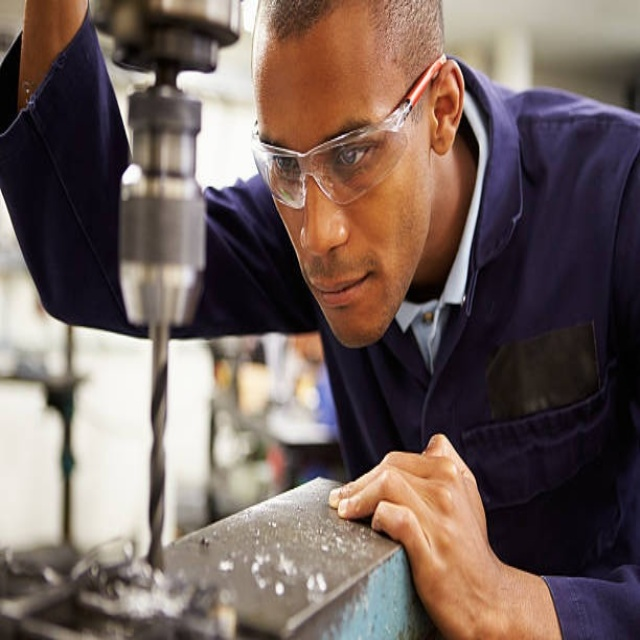Gafas: (251, 56, 443, 209)
Sin_guantes: (331, 432, 512, 640)
Sin_mascara: (300, 256, 392, 339)
